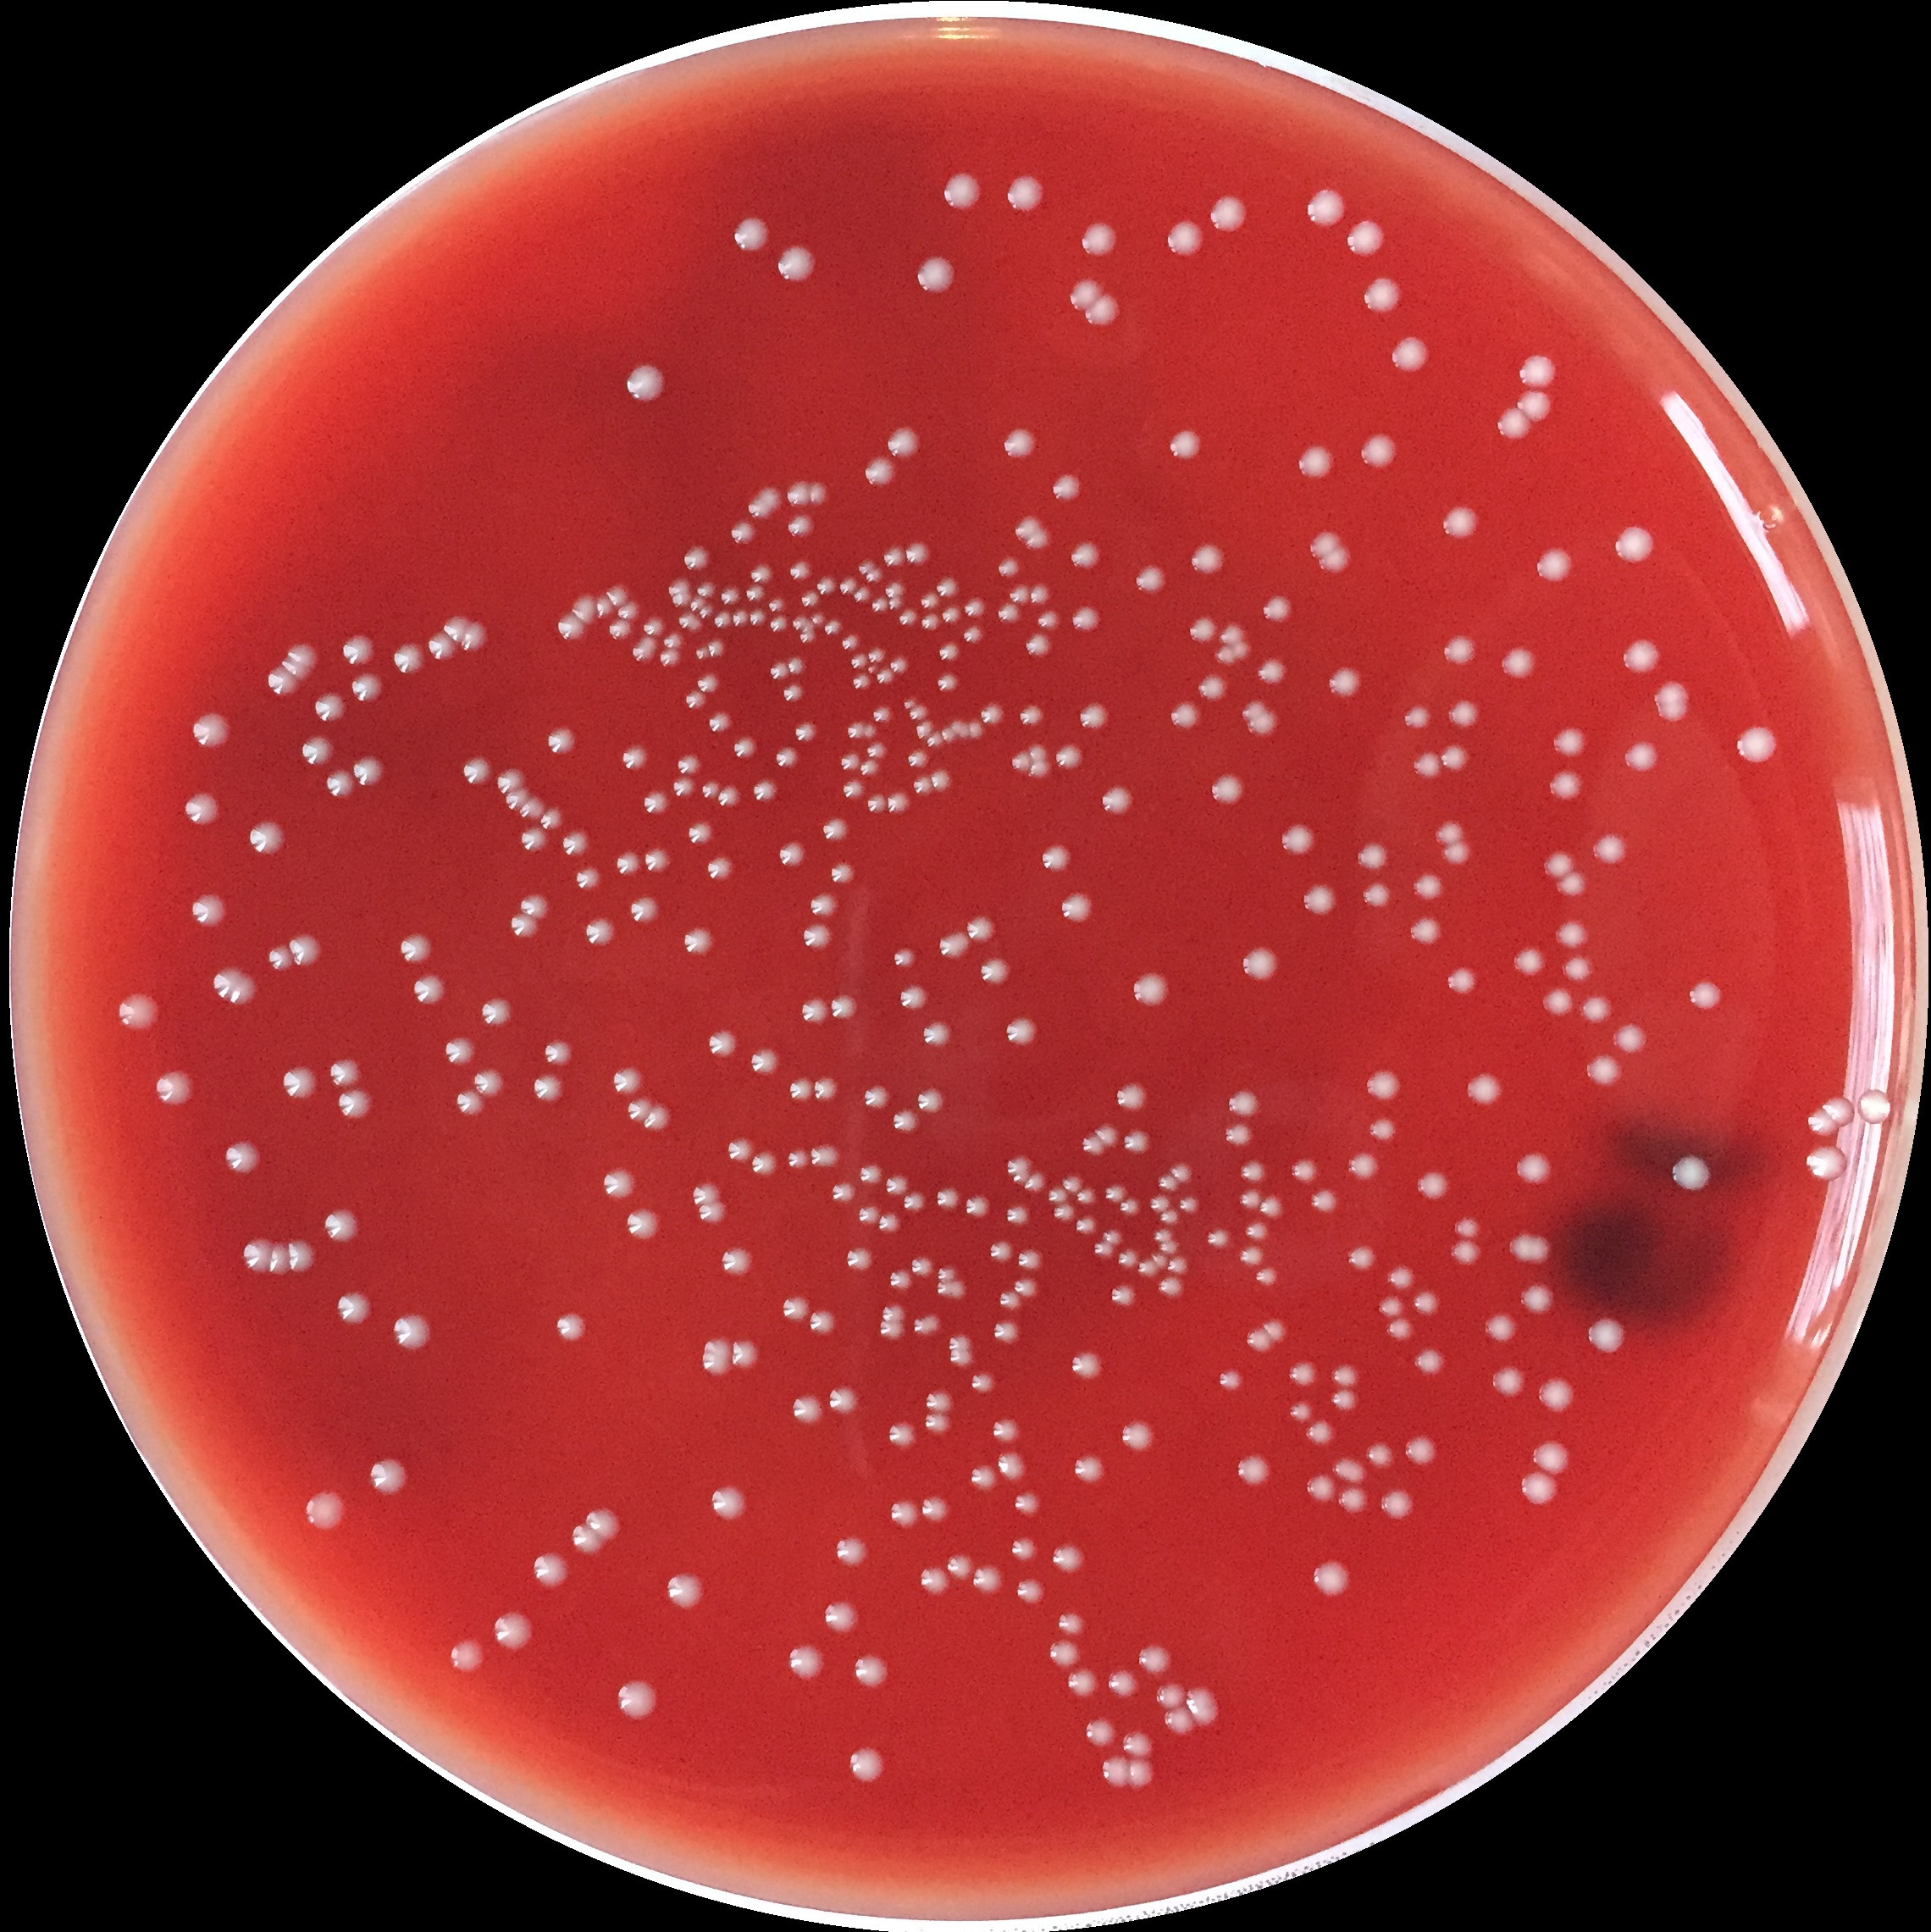sp21: (364, 1456, 417, 1500), (187, 713, 240, 757), (615, 1677, 663, 1725), (1075, 218, 1125, 264), (488, 1608, 541, 1651), (1733, 724, 1782, 768), (1666, 1152, 1715, 1196), (115, 991, 168, 1031), (939, 168, 985, 214), (301, 1488, 347, 1534), (389, 1309, 435, 1355), (447, 1633, 486, 1686), (916, 253, 960, 299), (1181, 1684, 1227, 1727), (621, 363, 668, 403), (1236, 943, 1284, 984), (1515, 1468, 1560, 1511), (663, 1569, 706, 1614), (1386, 334, 1432, 375), (1618, 632, 1659, 678), (1804, 1143, 1850, 1184), (831, 1534, 877, 1575), (1342, 216, 1385, 258), (530, 1548, 573, 1591), (1613, 524, 1657, 564), (1584, 1315, 1629, 1355), (1309, 1557, 1353, 1598), (1132, 970, 1176, 1010), (1303, 189, 1349, 228), (1855, 1086, 1897, 1127), (334, 1288, 377, 1329), (624, 1205, 667, 1246), (1004, 173, 1049, 212), (1162, 218, 1206, 257), (1208, 195, 1252, 234), (584, 1502, 624, 1543), (775, 244, 817, 283), (1530, 1437, 1572, 1476), (707, 1484, 750, 1523), (152, 1070, 195, 1109), (732, 214, 773, 253), (1234, 1449, 1273, 1490), (785, 1644, 826, 1683), (852, 1652, 893, 1691), (1063, 1663, 1103, 1702), (1535, 1375, 1577, 1412), (1066, 1350, 1109, 1387), (1620, 740, 1664, 775), (1187, 543, 1233, 577), (1082, 1713, 1121, 1752), (285, 932, 324, 971), (327, 1056, 366, 1095), (1512, 387, 1553, 425), (1326, 665, 1367, 702), (1590, 832, 1630, 869), (845, 1744, 886, 1782), (1466, 1070, 1508, 1106), (187, 892, 230, 927), (244, 819, 286, 855), (1515, 356, 1560, 389), (1294, 446, 1339, 479), (1362, 276, 1401, 313), (819, 1599, 858, 1637), (1441, 504, 1482, 540), (1500, 644, 1540, 679), (1049, 1539, 1089, 1575), (529, 1072, 569, 1108), (1546, 770, 1588, 803), (1581, 1054, 1623, 1088), (1507, 1231, 1549, 1265), (1549, 918, 1593, 950), (1519, 1279, 1556, 1316), (1162, 1704, 1199, 1741), (599, 1166, 637, 1203), (884, 425, 923, 460), (1358, 432, 1397, 467), (1549, 725, 1588, 761), (1257, 593, 1296, 628), (1278, 821, 1317, 856), (1514, 1150, 1553, 1185), (1363, 1067, 1402, 1102), (1112, 1079, 1151, 1115), (697, 1338, 732, 1376), (1045, 1635, 1084, 1670), (285, 1235, 320, 1274), (1066, 280, 1107, 313), (1165, 426, 1206, 460), (1687, 980, 1728, 1014), (1487, 1362, 1528, 1396), (1133, 1644, 1174, 1677), (182, 793, 225, 824), (1116, 1415, 1153, 1451), (1096, 1753, 1133, 1789), (322, 1207, 359, 1242), (225, 1138, 260, 1175), (1059, 888, 1095, 925), (352, 754, 389, 789), (1086, 294, 1125, 327), (553, 1311, 592, 1345), (396, 931, 435, 964), (1038, 840, 1077, 874), (1314, 543, 1355, 575), (1510, 947, 1551, 978), (566, 1523, 607, 1555), (347, 672, 387, 704), (1210, 771, 1245, 807), (1300, 881, 1335, 916), (336, 1086, 371, 1122), (584, 915, 619, 950), (1441, 633, 1478, 667), (1376, 1490, 1413, 1523), (1004, 1016, 1042, 1049), (994, 1447, 1027, 1484), (1054, 1608, 1091, 1642), (301, 734, 338, 768), (1133, 561, 1167, 598), (1066, 538, 1103, 571), (1535, 548, 1574, 580), (1332, 1454, 1370, 1486), (281, 1067, 320, 1099), (861, 458, 900, 490), (1650, 678, 1691, 708), (1153, 1683, 1194, 1713), (285, 640, 325, 671), (1003, 425, 1036, 460), (1195, 672, 1231, 706), (1406, 915, 1441, 948), (1445, 962, 1480, 996), (1540, 987, 1576, 1021), (824, 1385, 858, 1421), (888, 1497, 921, 1532), (969, 1562, 1003, 1598), (239, 1238, 272, 1274), (210, 966, 244, 1001), (1579, 993, 1616, 1024), (1611, 1023, 1648, 1054), (340, 635, 377, 667), (543, 724, 580, 755), (1167, 701, 1206, 731), (1411, 1171, 1450, 1201), (309, 694, 348, 724), (262, 667, 301, 697), (1402, 1433, 1436, 1467), (720, 1244, 753, 1277), (410, 975, 444, 1008), (1655, 697, 1691, 729), (1409, 869, 1445, 901), (1347, 1148, 1379, 1184), (1123, 1125, 1155, 1161), (1123, 1729, 1158, 1760), (1126, 1755, 1158, 1790), (612, 1063, 647, 1095), (454, 1088, 490, 1120), (748, 1046, 783, 1077), (391, 642, 426, 674), (460, 623, 492, 658), (463, 754, 495, 789), (493, 764, 529, 796), (1355, 844, 1392, 874), (1553, 869, 1590, 899), (479, 996, 516, 1026), (423, 632, 460, 662), (688, 1180, 727, 1208), (516, 892, 555, 920), (1344, 1242, 1378, 1274), (1821, 1095, 1855, 1127), (1303, 1415, 1337, 1447), (1010, 1488, 1043, 1520), (1107, 1668, 1139, 1702), (725, 1136, 757, 1169), (469, 1069, 502, 1100), (808, 892, 842, 924), (324, 768, 357, 800), (279, 655, 313, 686), (1482, 1313, 1517, 1343), (1409, 1345, 1445, 1375), (965, 1465, 1001, 1495), (228, 975, 263, 1005), (895, 984, 930, 1014), (935, 931, 971, 961), (681, 925, 716, 955), (1399, 706, 1436, 734), (1224, 1088, 1261, 1116), (1363, 1440, 1395, 1472), (790, 1394, 822, 1426), (943, 1552, 974, 1583), (1498, 409, 1531, 439), (1256, 656, 1289, 686), (1335, 1484, 1369, 1514), (806, 1141, 840, 1171), (805, 1307, 838, 1338), (988, 1415, 1019, 1449), (918, 1566, 951, 1596), (508, 909, 541, 939), (1052, 743, 1086, 773), (619, 743, 653, 773), (1305, 529, 1340, 557), (1450, 1237, 1485, 1265), (1383, 1316, 1418, 1345), (918, 1017, 953, 1046), (626, 897, 661, 925), (976, 955, 1011, 984), (799, 922, 835, 950), (1075, 702, 1111, 731), (935, 1281, 973, 1307), (1446, 701, 1478, 731), (1441, 745, 1471, 777), (1360, 881, 1392, 911), (1330, 1361, 1362, 1391), (886, 1419, 918, 1449), (1013, 1575, 1045, 1605), (442, 1035, 474, 1065), (559, 830, 591, 860), (442, 616, 472, 648), (1068, 603, 1100, 633), (1187, 616, 1220, 644), (1434, 819, 1468, 847), (1540, 847, 1574, 876), (1303, 1474, 1337, 1502), (1073, 1454, 1107, 1483), (1089, 1122, 1123, 1150), (912, 1085, 946, 1113), (843, 1244, 877, 1272), (730, 1338, 759, 1371), (706, 1030, 739, 1058), (964, 913, 997, 941), (819, 814, 852, 842), (681, 543, 714, 571), (1020, 632, 1054, 660), (1439, 840, 1475, 867), (267, 1238, 294, 1274), (1413, 752, 1443, 782), (1367, 1116, 1397, 1146), (985, 1237, 1015, 1267), (263, 943, 294, 973), (1560, 954, 1591, 982), (1450, 1214, 1482, 1242), (1287, 1155, 1319, 1184), (1222, 1120, 1254, 1148), (1807, 1109, 1839, 1138), (1287, 1359, 1319, 1387), (1003, 1201, 1034, 1230), (1015, 1246, 1047, 1274), (612, 851, 644, 879), (516, 824, 548, 853), (812, 1076, 843, 1104), (828, 860, 859, 888), (1100, 786, 1132, 814), (750, 777, 782, 805), (684, 821, 716, 849), (783, 479, 812, 511), (783, 511, 815, 540), (1049, 472, 1080, 501), (1243, 715, 1282, 738), (992, 1318, 1026, 1345), (702, 855, 736, 881), (1385, 1263, 1415, 1292), (1256, 1192, 1284, 1223), (1100, 1180, 1130, 1208), (934, 1184, 962, 1214), (782, 1295, 812, 1323), (624, 1095, 654, 1123), (543, 1039, 573, 1067), (775, 839, 805, 867), (978, 699, 1006, 729), (502, 786, 532, 814), (571, 594, 599, 625), (1011, 515, 1042, 543), (1408, 1290, 1439, 1316), (1307, 1189, 1339, 1215), (1107, 1283, 1139, 1309), (920, 1495, 951, 1522), (640, 789, 672, 816), (631, 633, 658, 665), (704, 711, 736, 738), (674, 609, 706, 635), (783, 557, 817, 582), (891, 1108, 920, 1136), (858, 1161, 886, 1189), (902, 538, 930, 566), (1217, 1368, 1247, 1394), (962, 1194, 992, 1221), (925, 1389, 955, 1415), (1006, 1537, 1036, 1564), (642, 1104, 672, 1131), (861, 1085, 891, 1111), (828, 993, 858, 1019), (536, 805, 566, 832), (555, 612, 585, 639), (693, 671, 723, 697), (757, 487, 787, 513), (1020, 1171, 1052, 1196), (748, 1150, 780, 1175), (697, 1200, 729, 1224), (877, 1318, 909, 1343), (571, 865, 603, 890), (960, 594, 992, 619), (930, 577, 962, 602), (1245, 1327, 1271, 1355), (1158, 1274, 1187, 1300), (992, 1286, 1020, 1313), (787, 1074, 815, 1100), (840, 777, 868, 803), (603, 582, 631, 609), (805, 481, 831, 510), (1079, 1134, 1109, 1159), (801, 996, 826, 1026), (605, 617, 635, 642), (934, 671, 964, 695), (1330, 1389, 1362, 1412), (729, 736, 760, 759), (674, 754, 706, 777), (996, 603, 1027, 626), (1287, 1398, 1314, 1424), (882, 1171, 909, 1198), (905, 745, 932, 771), (729, 520, 755, 547), (1004, 580, 1031, 607), (916, 587, 943, 614), (1202, 1226, 1231, 1251), (1376, 1293, 1404, 1318), (1116, 1192, 1144, 1217), (1116, 1247, 1144, 1272), (783, 1146, 812, 1171), (716, 582, 744, 607), (994, 554, 1022, 579), (879, 543, 907, 568), (1024, 529, 1052, 554), (1234, 1189, 1264, 1212), (1072, 1214, 1102, 1237), (1057, 1173, 1088, 1196), (828, 1180, 858, 1203), (1238, 701, 1270, 722), (912, 1315, 944, 1336), (1243, 1219, 1270, 1244), (1261, 1318, 1287, 1343), (1050, 1201, 1077, 1226), (1013, 1274, 1040, 1299), (969, 1369, 996, 1394), (889, 947, 916, 971), (884, 793, 911, 817), (865, 791, 891, 816), (872, 662, 898, 686), (1027, 580, 1054, 605), (1218, 623, 1247, 646), (1169, 1161, 1197, 1184), (875, 1212, 904, 1235), (934, 1263, 962, 1286), (792, 720, 820, 743), (714, 786, 743, 809), (614, 598, 642, 621), (1004, 1154, 1034, 1175), (1008, 748, 1033, 773), (1211, 644, 1238, 667), (1240, 1244, 1266, 1267), (1167, 1253, 1190, 1279), (1072, 1184, 1098, 1207), (886, 1269, 912, 1292), (907, 1254, 934, 1277), (923, 1412, 950, 1435), (644, 847, 670, 870), (1017, 702, 1043, 725), (928, 768, 955, 791), (661, 628, 688, 651), (746, 495, 773, 518), (743, 580, 766, 607), (935, 640, 962, 663), (594, 591, 615, 619), (944, 1330, 974, 1350), (1256, 1265, 1280, 1288), (1155, 1171, 1179, 1194), (900, 1192, 925, 1215), (522, 796, 545, 821), (780, 683, 805, 706), (836, 573, 859, 598), (854, 1203, 881, 1224), (773, 745, 799, 766), (661, 577, 693, 594), (668, 777, 697, 796), (691, 579, 720, 598), (746, 564, 776, 582), (1148, 1192, 1171, 1215), (1178, 1192, 1201, 1215), (838, 750, 861, 773), (640, 614, 663, 637), (767, 658, 790, 681), (798, 587, 820, 610), (849, 582, 872, 605), (939, 603, 962, 626), (895, 605, 918, 628), (950, 1348, 974, 1369), (683, 688, 707, 709), (709, 609, 734, 630), (820, 617, 845, 639), (1034, 609, 1061, 628), (1238, 1159, 1261, 1180), (1146, 1249, 1167, 1272), (1029, 757, 1052, 778), (909, 777, 932, 798), (865, 740, 888, 761), (660, 648, 683, 669), (746, 609, 769, 630), (964, 625, 987, 646), (920, 614, 943, 635), (1089, 1238, 1114, 1258), (1100, 1228, 1125, 1247), (882, 580, 907, 600), (1153, 1240, 1183, 1256), (912, 722, 939, 740), (879, 1304, 907, 1320), (1229, 639, 1250, 660), (965, 717, 987, 738), (872, 702, 893, 724), (730, 609, 752, 630), (767, 596, 789, 617), (815, 575, 836, 596), (888, 653, 909, 674), (856, 556, 877, 577), (950, 717, 973, 736), (858, 759, 881, 778), (670, 589, 693, 609), (684, 593, 707, 612), (766, 614, 789, 633), (851, 672, 874, 692), (905, 702, 930, 720), (1158, 1207, 1179, 1226), (1137, 1258, 1158, 1277), (1026, 740, 1047, 759), (941, 725, 960, 747), (923, 729, 944, 748), (706, 639, 727, 658), (787, 656, 808, 676), (1149, 1224, 1172, 1242), (697, 780, 720, 798), (838, 633, 861, 651), (863, 644, 886, 662), (845, 720, 865, 740), (870, 596, 889, 616), (1049, 1187, 1066, 1208), (697, 602, 718, 619), (849, 651, 870, 669), (861, 566, 884, 582), (861, 660, 882, 676), (884, 594, 905, 610), (808, 610, 828, 626), (798, 630, 819, 644), (861, 720, 877, 738), (693, 642, 711, 658), (904, 694, 920, 709), (790, 616, 806, 630), (801, 616, 815, 632)
